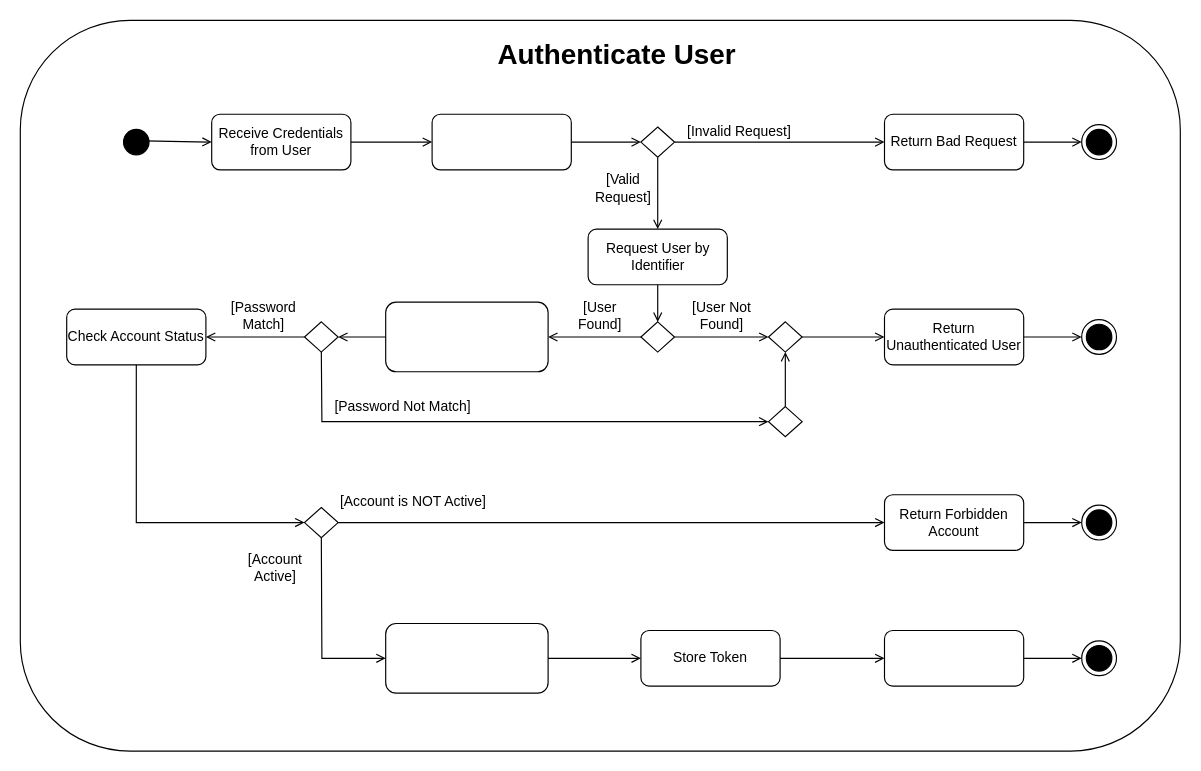
This 1201x771 diagram has some shape labels left out. Here are the shapes that lost their labels. From the top down, the box of each, then its label:
(431, 113, 571, 170): Validate Authentication Request
(385, 301, 548, 372): Verify Password with PasswordHasher
(385, 622, 548, 693): Generate AuthResult with Token
(883, 629, 1024, 686): Return Authenticated State
